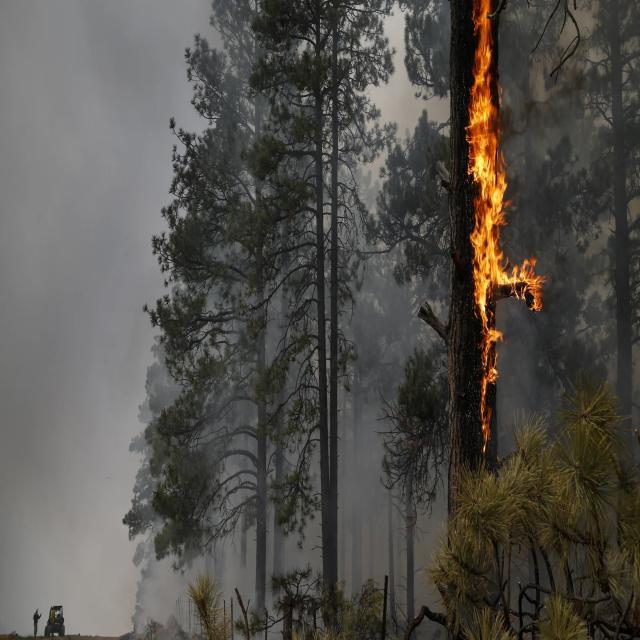Fire: (460, 0, 534, 446)
